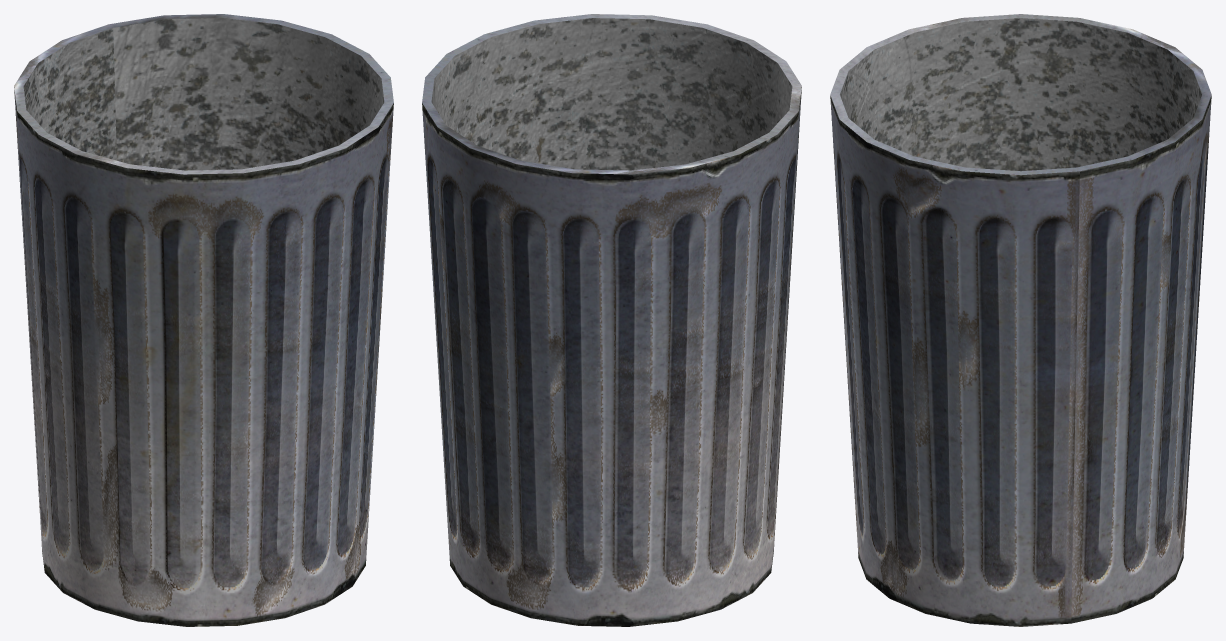
Rendered from garbagecan_empty.fbx.
3 renders of one model, left to right at view 1: azimuth 30°, elevation 25°; view 2: azimuth 150°, elevation 25°; view 3: azimuth 270°, elevation 25°, orthographic.
Parts seen in each view (by area): view 1: empty_garbage_can; view 2: empty_garbage_can; view 3: empty_garbage_can.
Part boxes in pixels (x1,y1,x2,y2): empty_garbage_can: [14, 14, 393, 626]; empty_garbage_can: [422, 14, 801, 626]; empty_garbage_can: [830, 14, 1211, 626].
Size of the model in its own units: 0.7888 by 1.06 by 0.7888.
